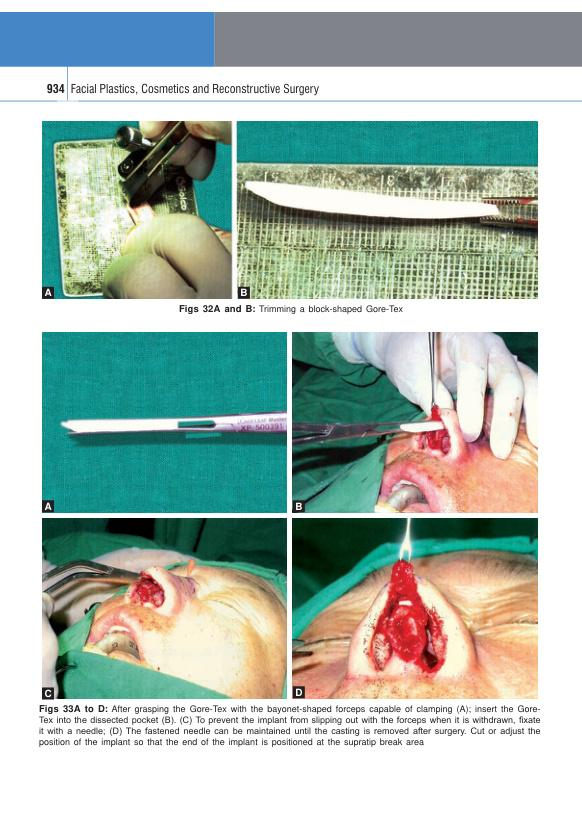caption: (36, 703, 541, 748), (177, 303, 404, 315), (294, 686, 304, 698), (294, 501, 304, 512), (43, 287, 53, 297), (239, 287, 248, 298), (44, 688, 53, 699), (44, 501, 53, 511)
header: (69, 82, 320, 97)
image: (236, 120, 539, 299), (291, 331, 539, 514), (292, 517, 538, 699), (41, 332, 287, 513), (41, 518, 287, 699), (41, 120, 233, 300)
